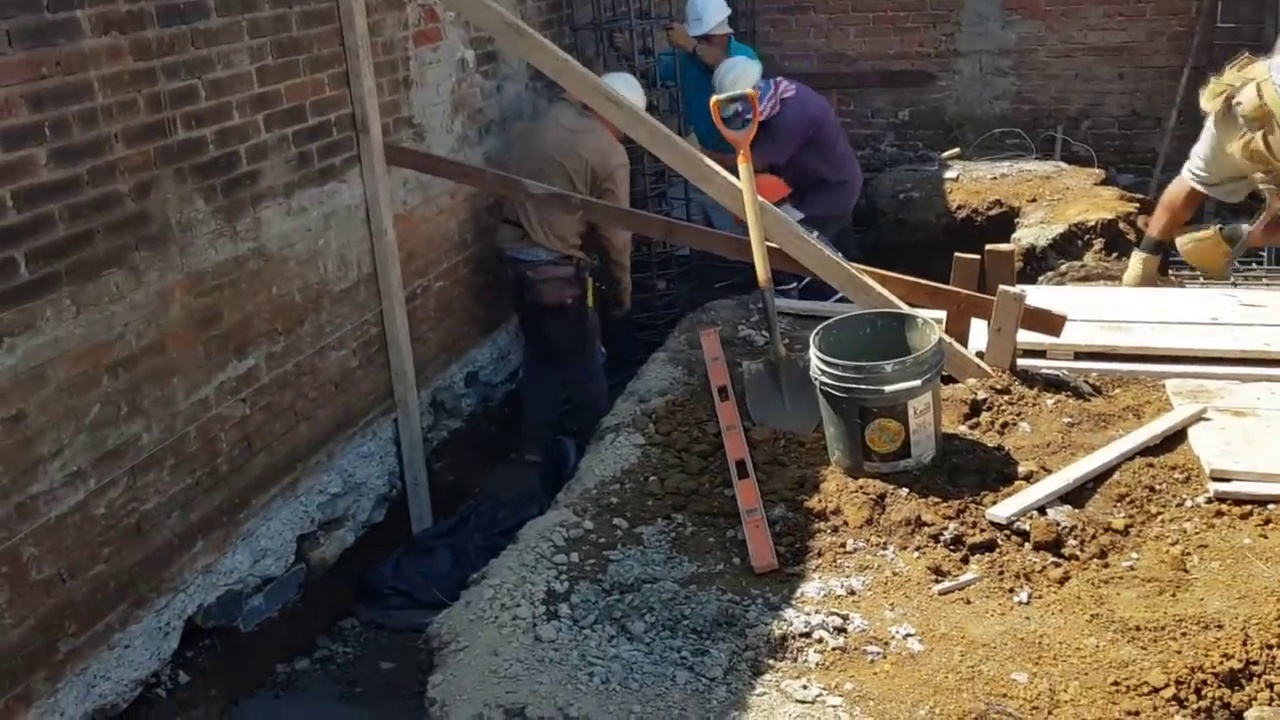helmet: (709, 59, 761, 116), (597, 70, 647, 115), (678, 1, 732, 36), (745, 170, 796, 205)
helmet-on: (579, 71, 648, 140), (710, 57, 778, 122), (673, 1, 741, 65)
person: (482, 70, 648, 462), (1124, 37, 1272, 316), (709, 57, 863, 236), (617, 1, 761, 130)
